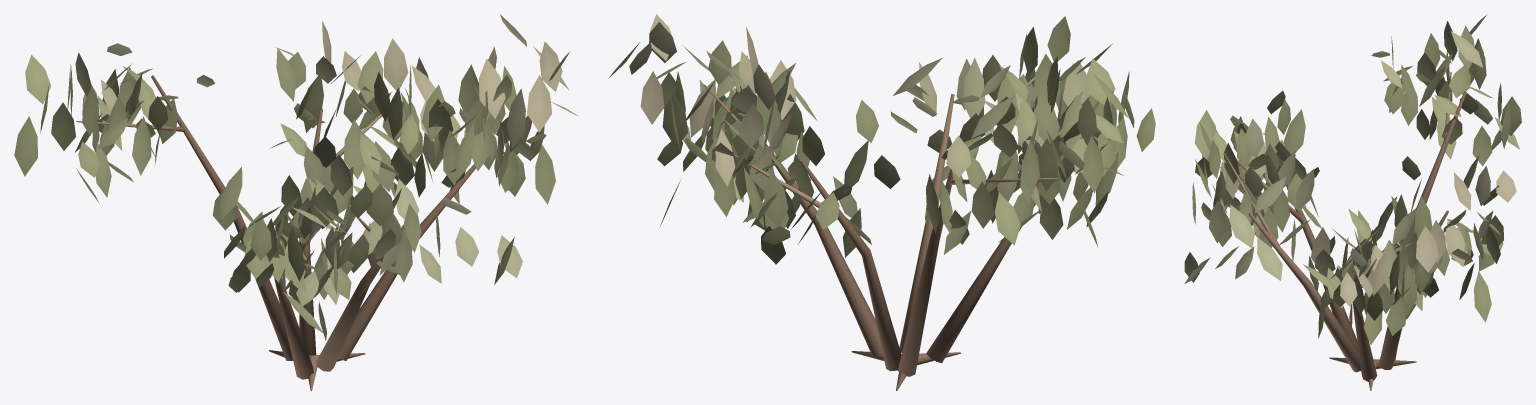
The model's file is bush_3d_01.glb.
3 views of the same model, side by side, from view 1: azimuth 30°, elevation 25°; view 2: azimuth 150°, elevation 25°; view 3: azimuth 270°, elevation 25° (orthographic). The views are drawn at different scales.
Visible parts, largest first — view 1: bush_3d_01_foliage, bush_3d_01_wood; view 2: bush_3d_01_foliage, bush_3d_01_wood; view 3: bush_3d_01_foliage, bush_3d_01_wood.
Part boxes in pixels (x1,y1,x2,y2): bush_3d_01_foliage: (14, 14, 577, 340); bush_3d_01_wood: (76, 75, 490, 390); bush_3d_01_foliage: (608, 14, 1155, 264); bush_3d_01_wood: (704, 77, 1082, 390); bush_3d_01_foliage: (1184, 14, 1521, 344); bush_3d_01_wood: (1223, 72, 1466, 390).
Bounding box in the file's own units: 2.06 × 1.3 × 1.43.
